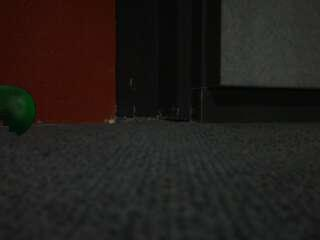Lime: (0, 85, 37, 136)
